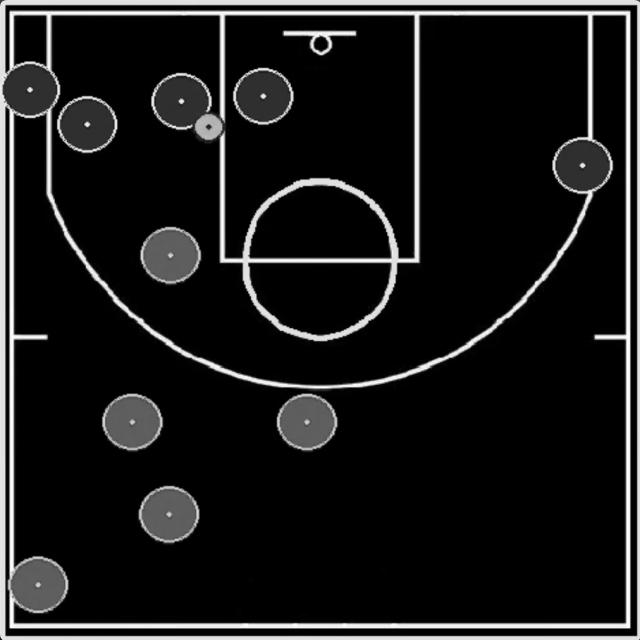Basketball: (193, 112, 225, 144)
Team_A: (233, 67, 294, 125), (57, 96, 117, 153), (152, 73, 212, 130), (552, 137, 612, 194), (1, 61, 60, 118)
Team_B: (138, 486, 200, 544), (141, 226, 201, 284), (277, 394, 338, 451), (102, 394, 162, 451), (8, 556, 68, 613)
